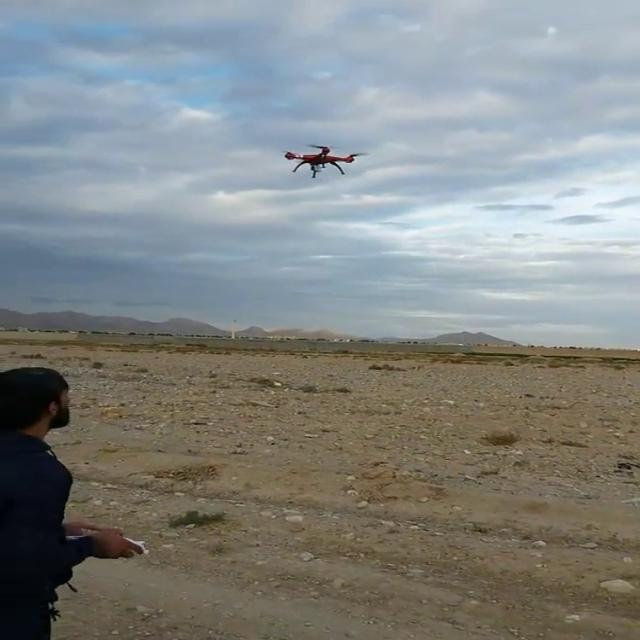drone: (271, 140, 378, 182)
